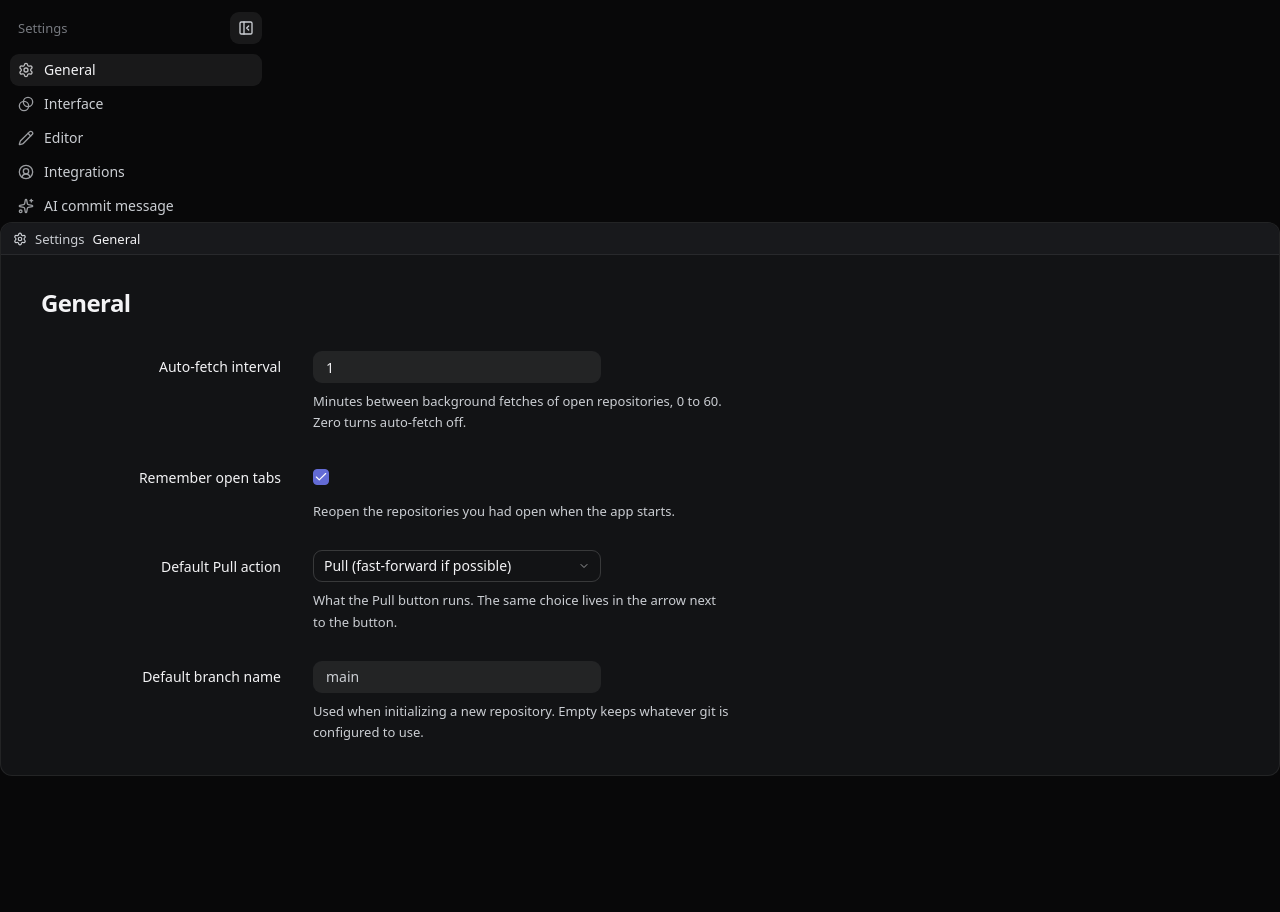
Scenario: the AI section › opening the section loads the list, detects the provider and picks a model on its own
What coordinates should you click on to do the following:
click the button "AI commit message"
I would click on:
 (136, 206)
Its box is x1=10 y1=190 x2=262 y2=222.
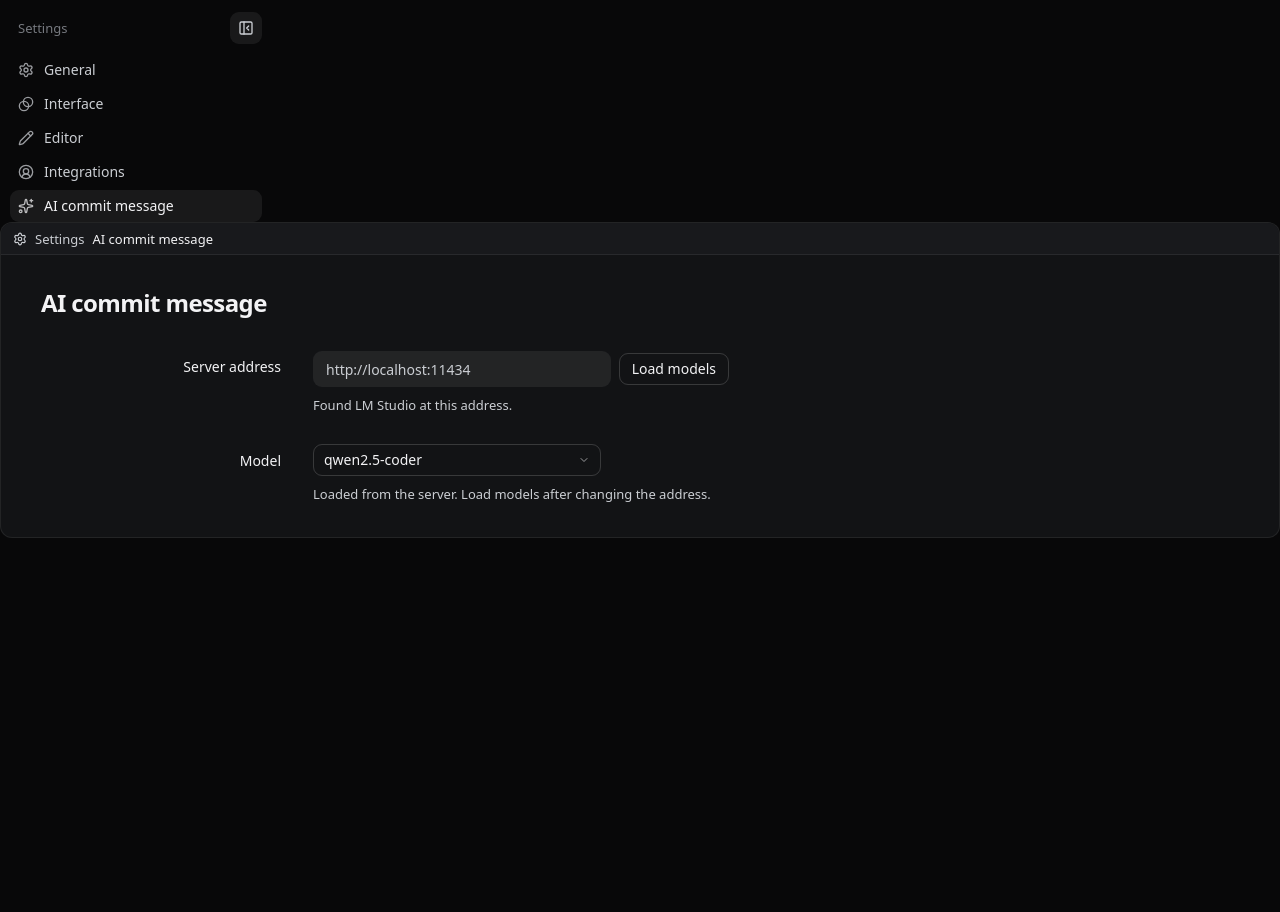
Expected: the button "qwen2.5-coder" is shown, x1=313 y1=444 x2=601 y2=476
Expected: the text "Found LM Studio at this address." is shown, x1=313 y1=396 x2=512 y2=414
